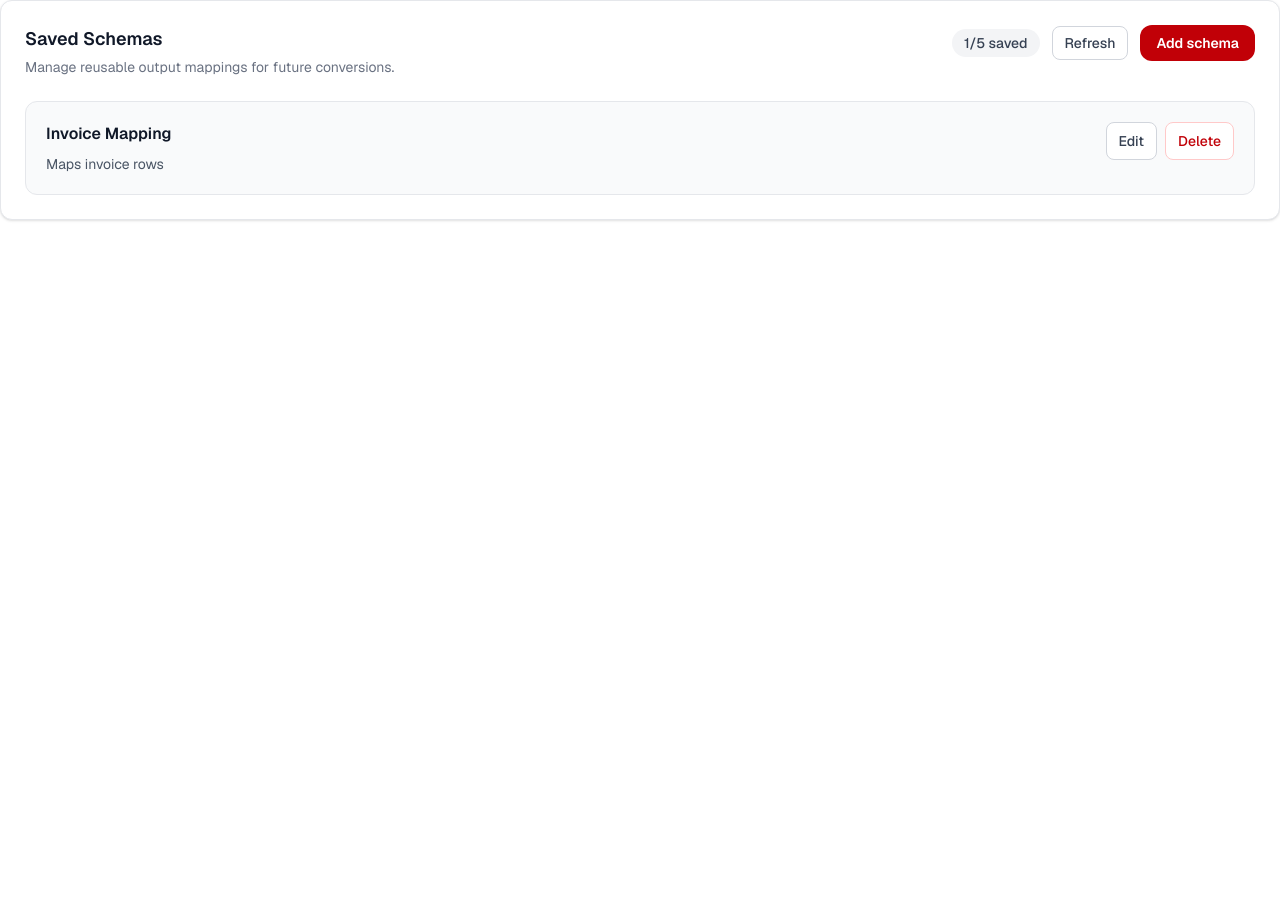
Test: CustomSchemaManager › closes the delete dialog when the user clicks the backdrop or presses escape
The width and height of the screenshot is (1280, 900).
Check: the heading "Invoice Mapping" is shown, box [46,122,172,146]
Click the button "Delete". click: (1199, 141)
box: [1165,122,1234,160]
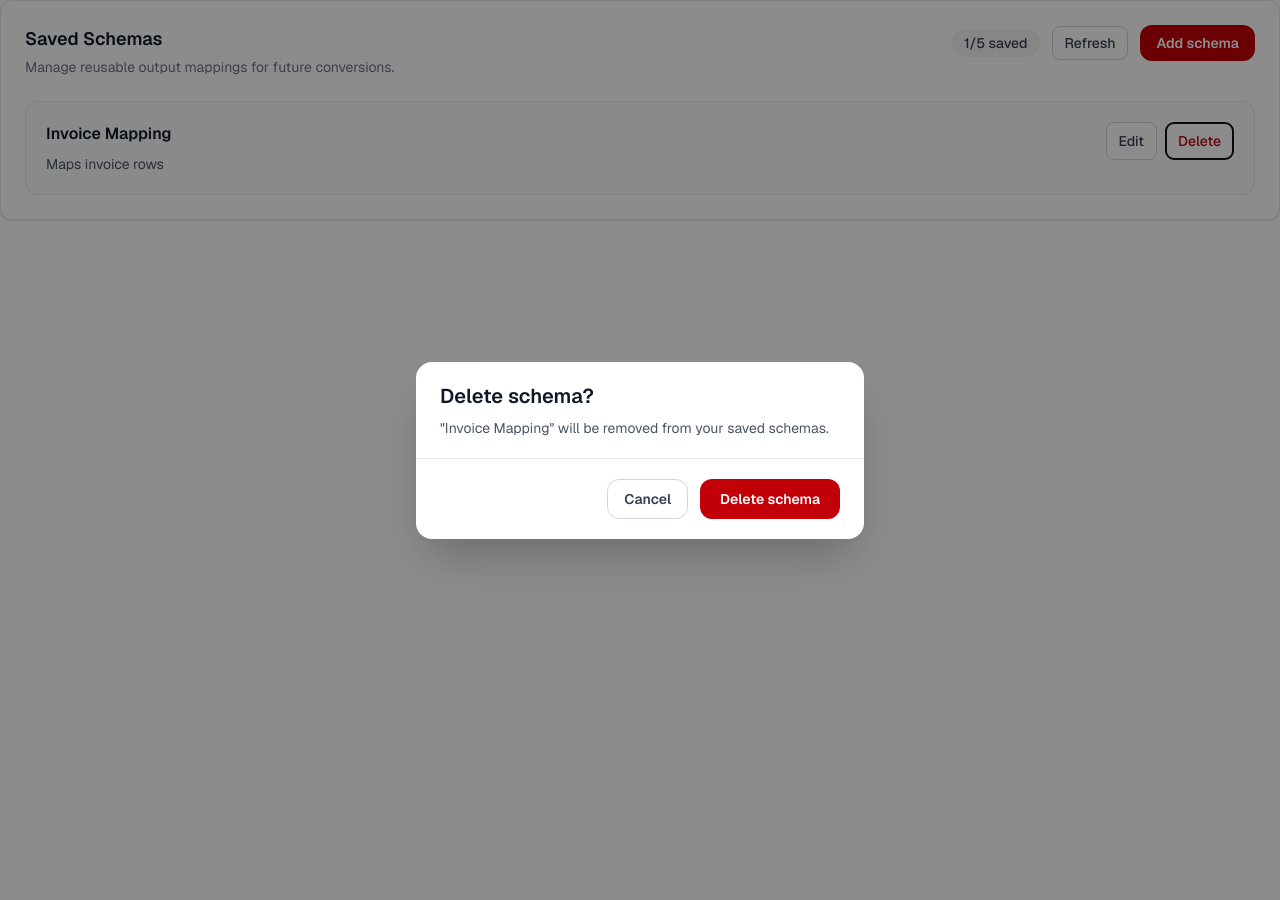
Click the button with test id "delete-schema-backdrop-btn". click: (77, 450)
box: [0,0,1279,899]
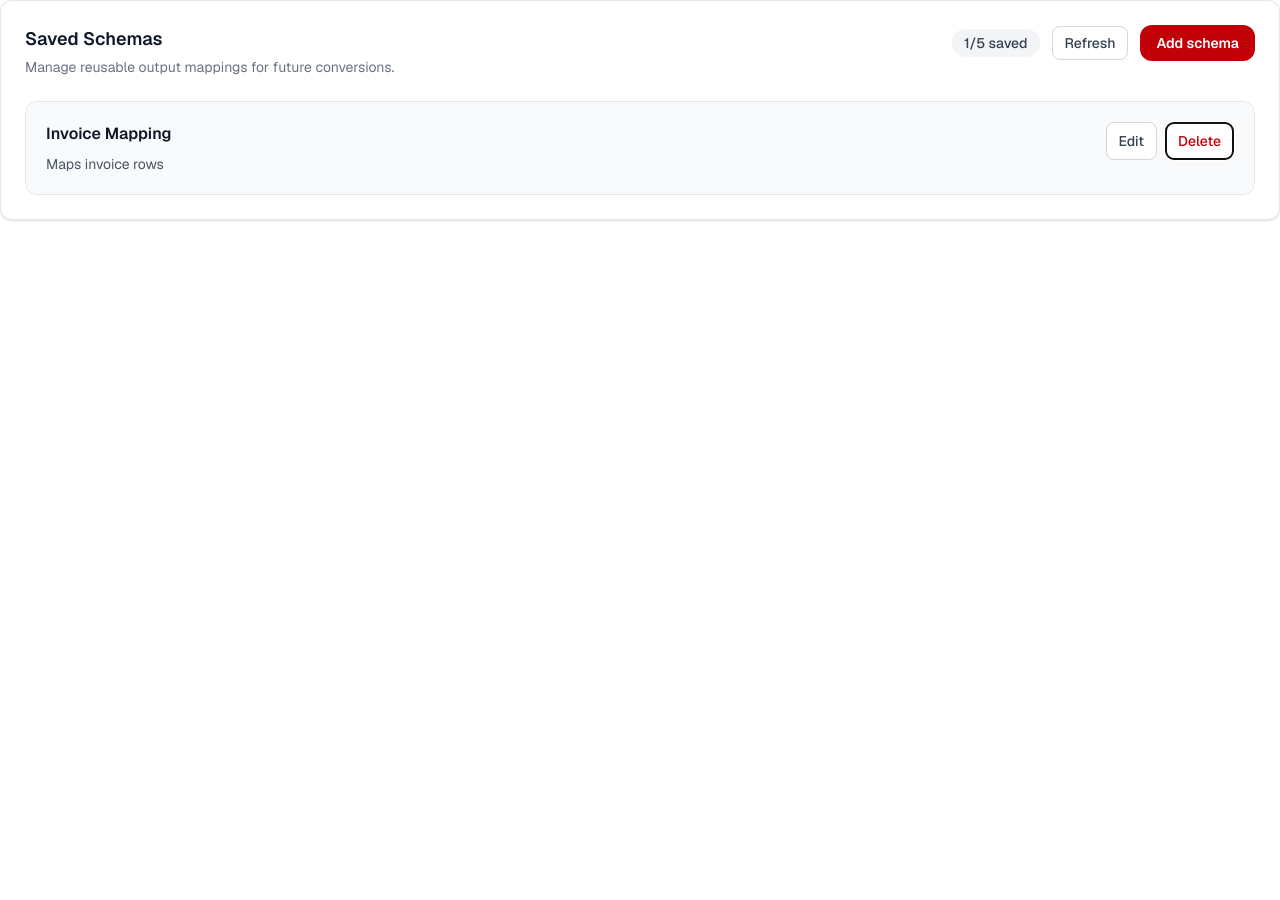
Check: the heading "Delete schema" is gone
Click the button "Delete". click: (1199, 141)
box: [1165,122,1234,160]
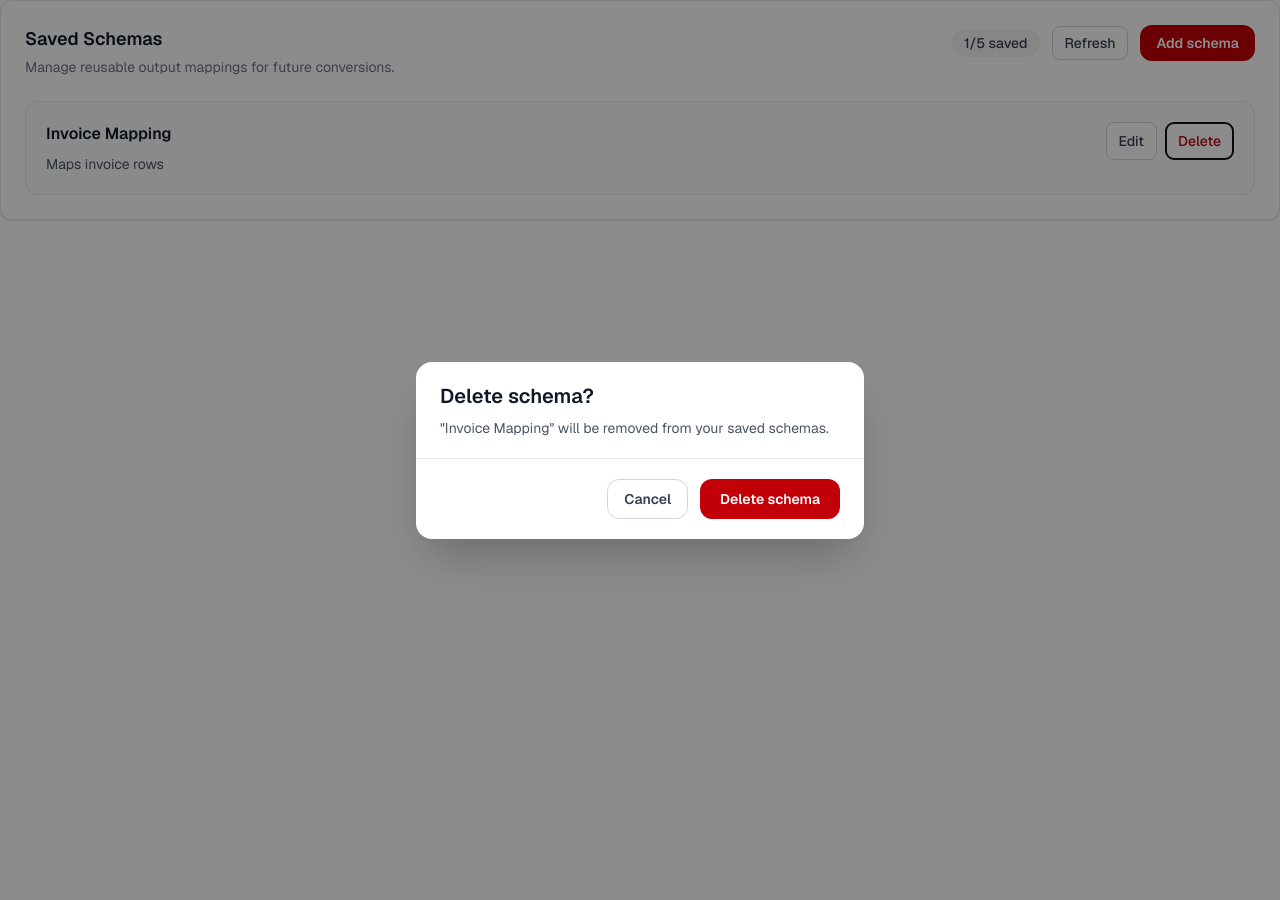
Press Escape
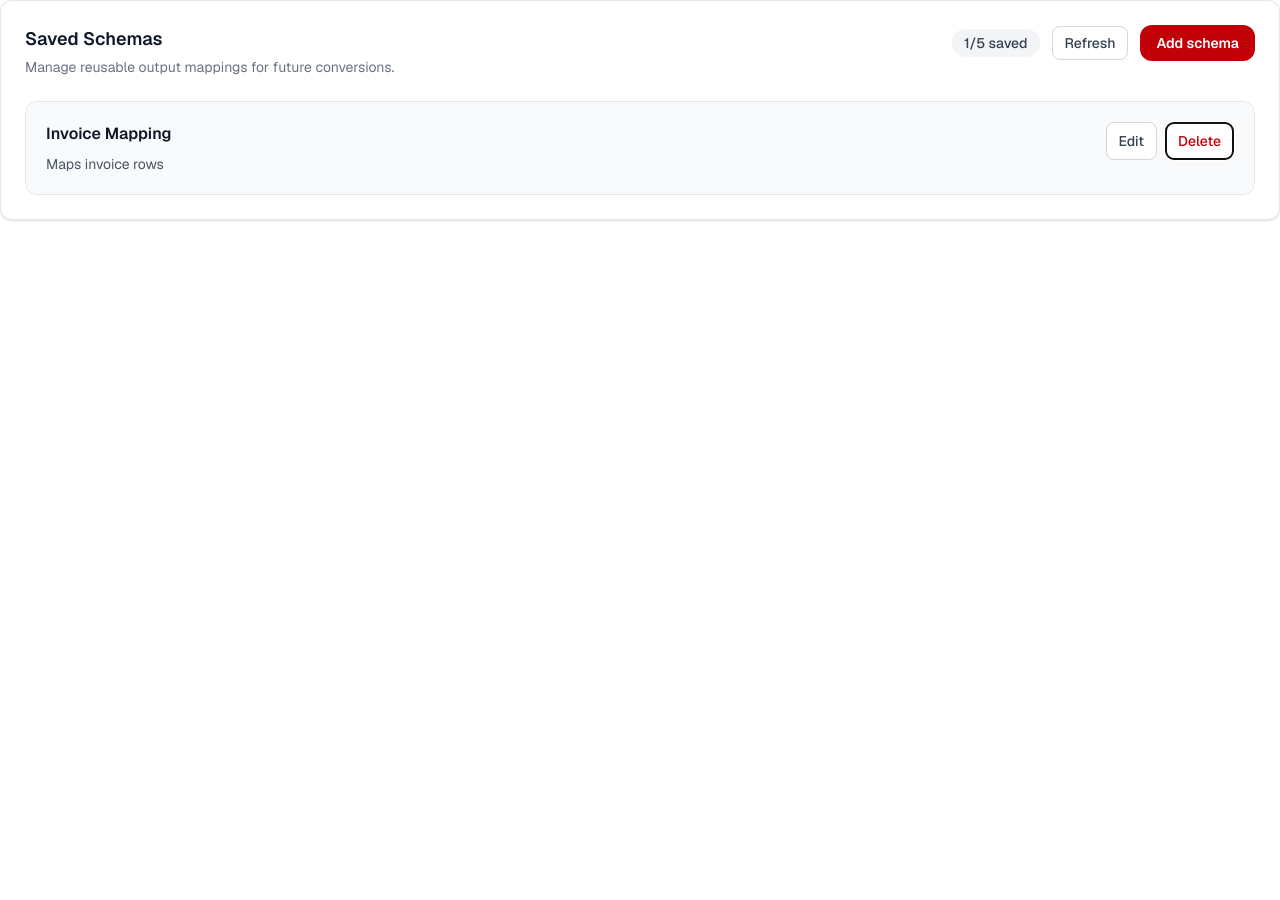
Check: the heading "Delete schema" is gone
